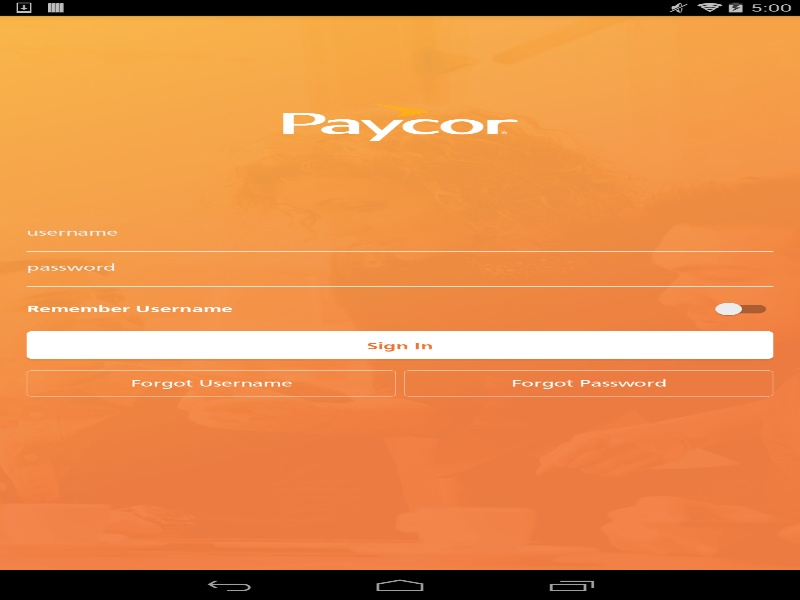Button: (26, 330, 773, 360)
Input: (26, 226, 773, 252), (26, 261, 773, 287)
